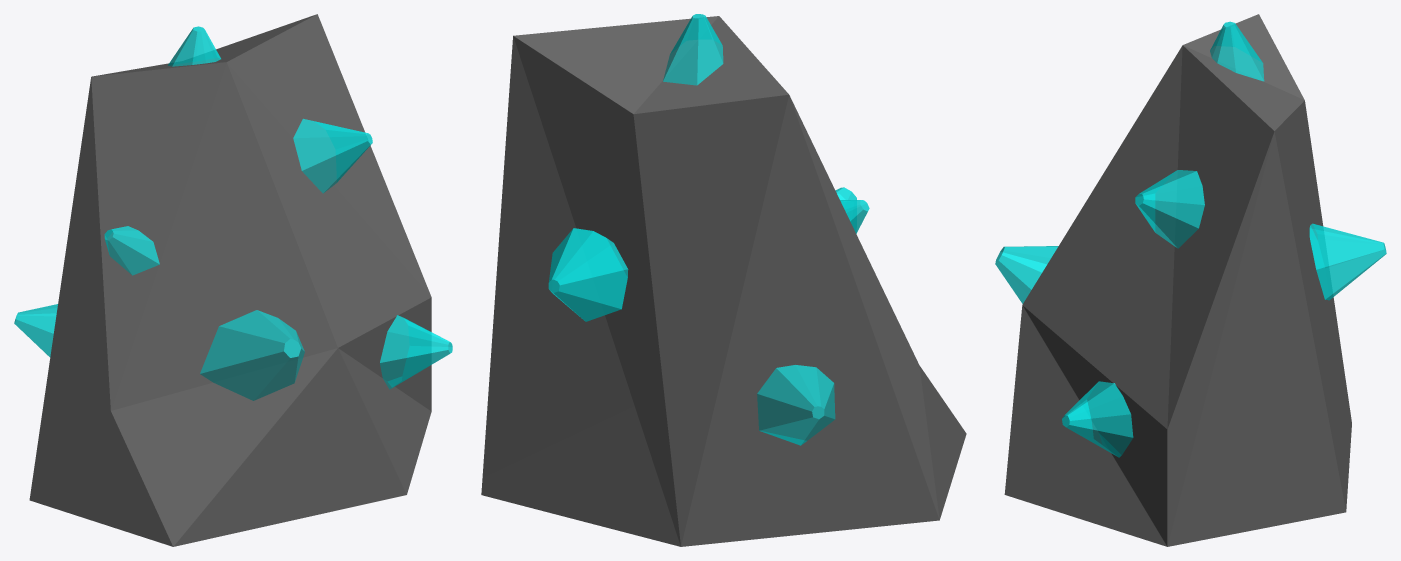
File: Prop_Ore_Node_Blue_02.fbx
3 renders of one model, left to right at view 1: azimuth 30°, elevation 25°; view 2: azimuth 150°, elevation 25°; view 3: azimuth 270°, elevation 25°, orthographic. The views are drawn at different scales.
Visible parts, largest first — view 1: Prop_Ore_Node_Blue_02; view 2: Prop_Ore_Node_Blue_02; view 3: Prop_Ore_Node_Blue_02.
Boxes of the visible parts, x1,y1,x2,y2 form: Prop_Ore_Node_Blue_02: (14,14,452,546); Prop_Ore_Node_Blue_02: (481,14,966,546); Prop_Ore_Node_Blue_02: (995,14,1386,546).
Bounding box in the file's own units: 930 × 1027 × 781.
